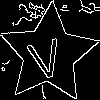V: (24, 29, 66, 81)
